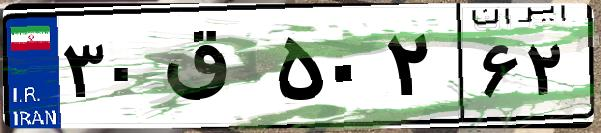0: (330, 28, 385, 110), (110, 28, 158, 98)
2: (385, 28, 445, 110), (525, 38, 570, 115)
3: (57, 26, 110, 100)
5: (270, 28, 330, 110)
6: (475, 38, 525, 113)
ق: (158, 20, 270, 120)
